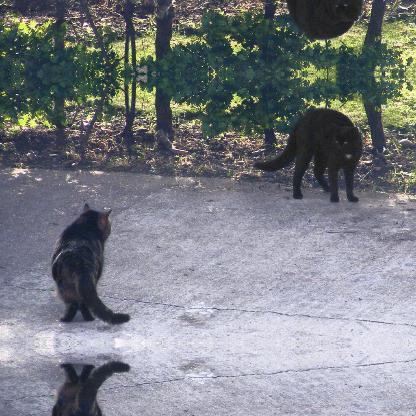Cat: (252, 104, 362, 202), (52, 204, 130, 326), (251, 0, 363, 43), (51, 357, 131, 415)
